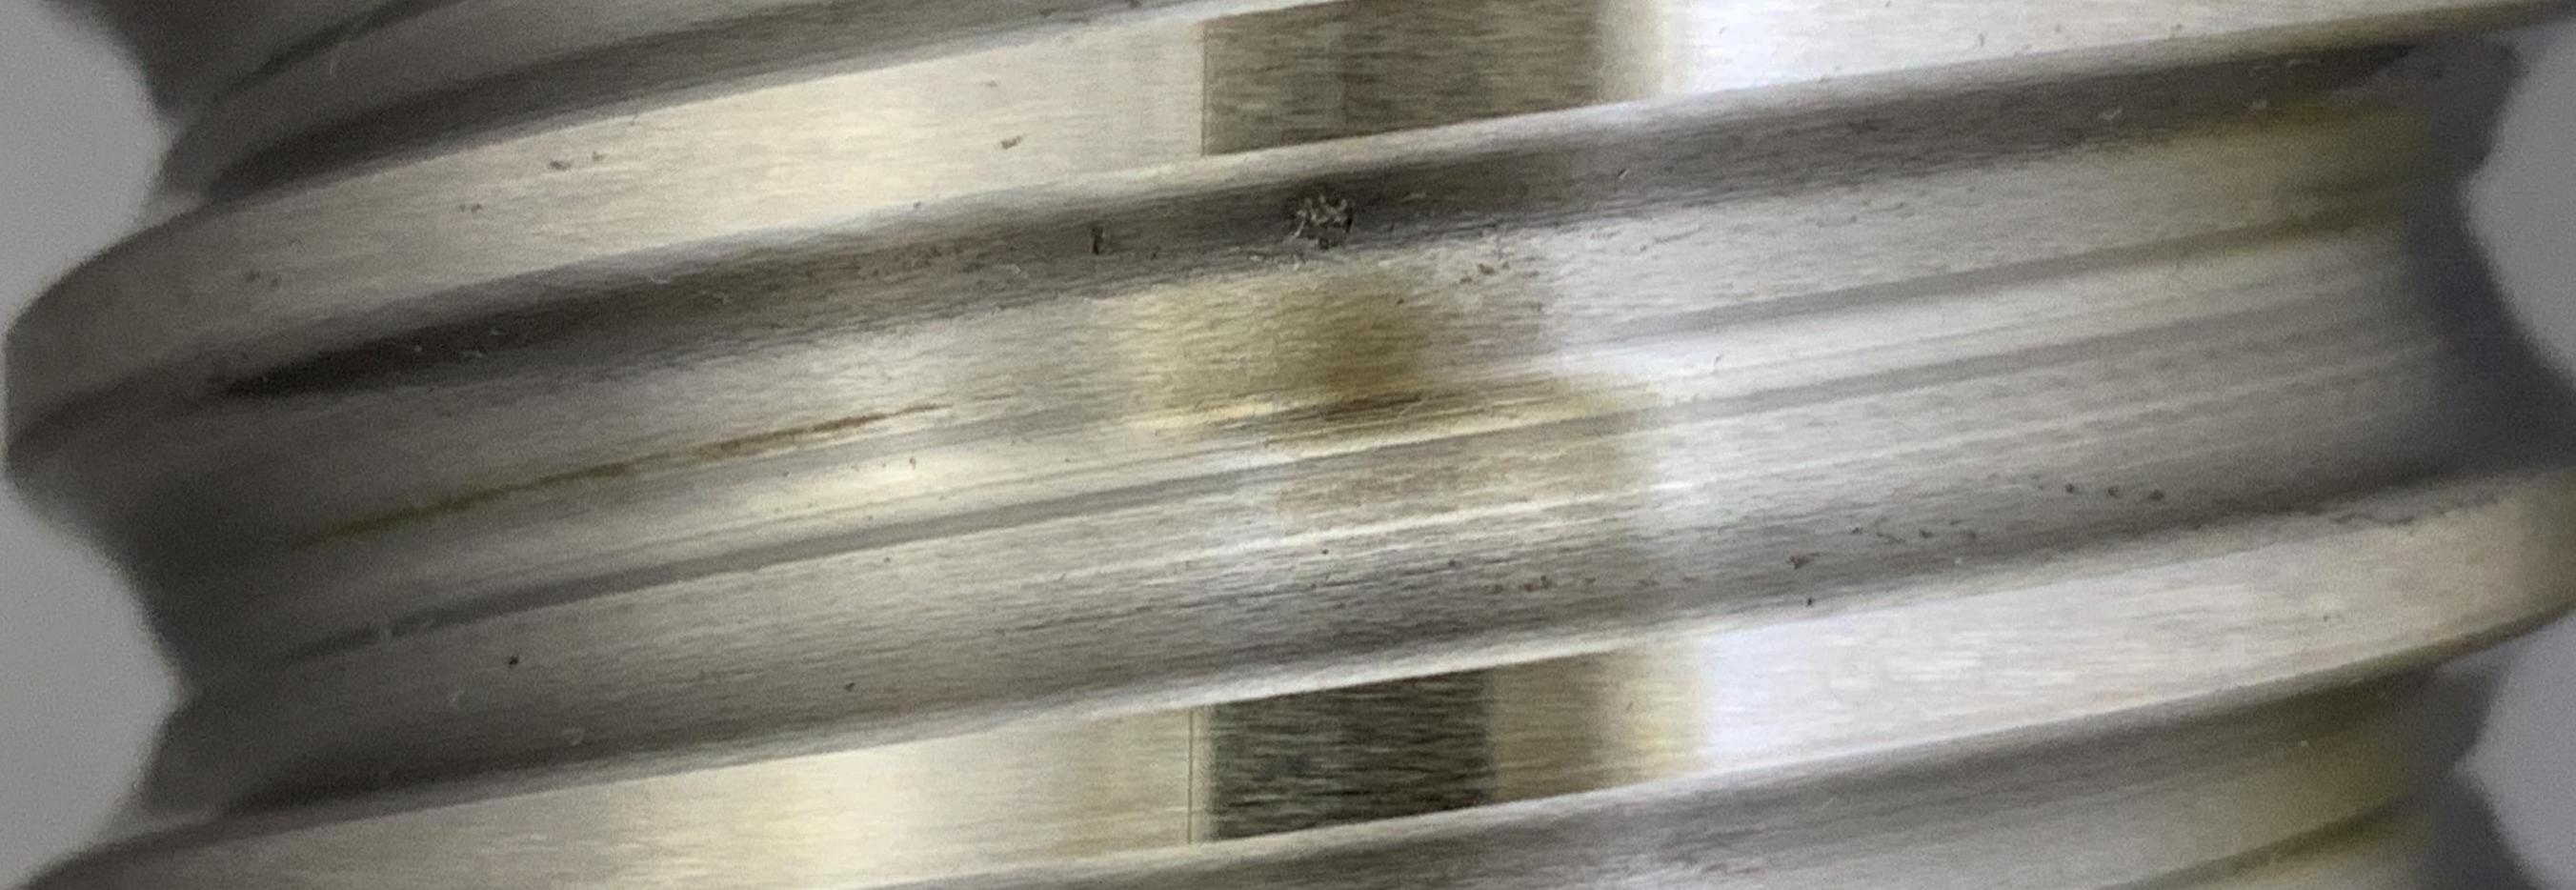pitting: (1278, 181, 1352, 250), (1091, 227, 1114, 256)
